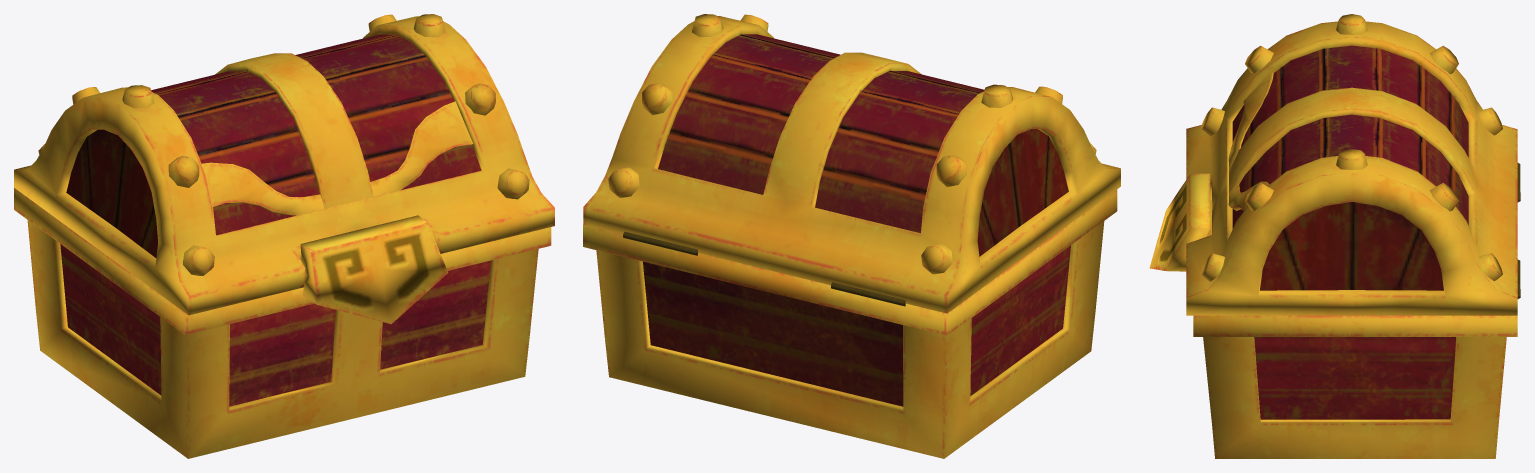
Rendered from cofre.obj.
3 renders of one model, left to right at view 1: azimuth 30°, elevation 25°; view 2: azimuth 150°, elevation 25°; view 3: azimuth 270°, elevation 25°, orthographic. The views are drawn at different scales.
Visible parts, largest first — view 1: huta__MI_dungeonTreasureBox_01, hako__MI_dungeonTreasureBox_01; view 2: huta__MI_dungeonTreasureBox_01, hako__MI_dungeonTreasureBox_01; view 3: huta__MI_dungeonTreasureBox_01, hako__MI_dungeonTreasureBox_01.
Part boxes in pixels (x1,y1,x2,y2): huta__MI_dungeonTreasureBox_01: (14,14,554,315); hako__MI_dungeonTreasureBox_01: (14,188,551,458); huta__MI_dungeonTreasureBox_01: (583,14,1120,313); hako__MI_dungeonTreasureBox_01: (583,189,1117,458); huta__MI_dungeonTreasureBox_01: (1186,14,1517,315); hako__MI_dungeonTreasureBox_01: (1149,163,1520,458).
Size of the model in its own units: 1.42 by 1.15 by 1.31.
